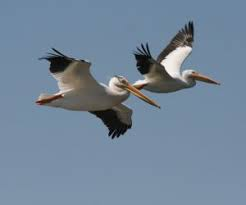pelican: (36, 48, 161, 146), (134, 20, 221, 99)
